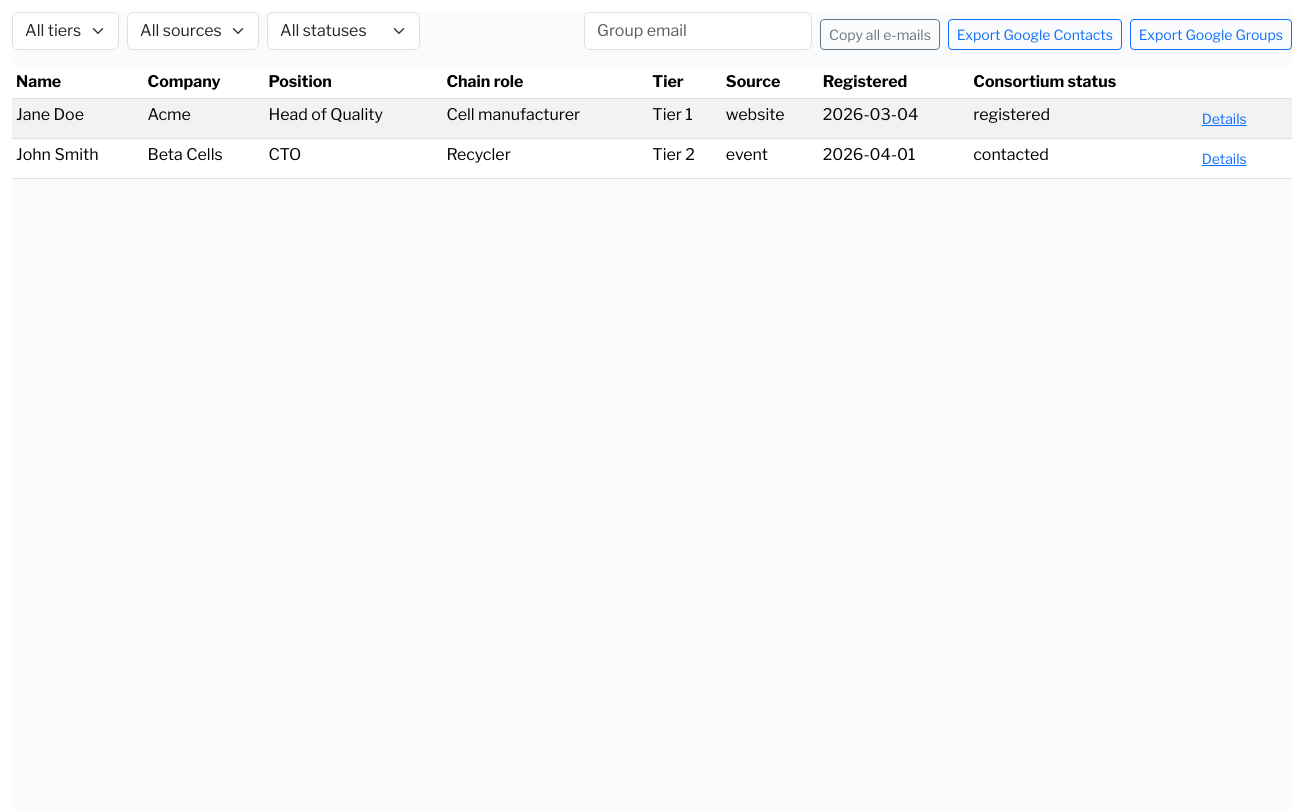
Test: ConsortiumRegistrations › saves an edited status and notes from the detail card
Click the button "Details" in the row of "Jane Doe". click: (1224, 118)
box: [1193,103,1256,134]
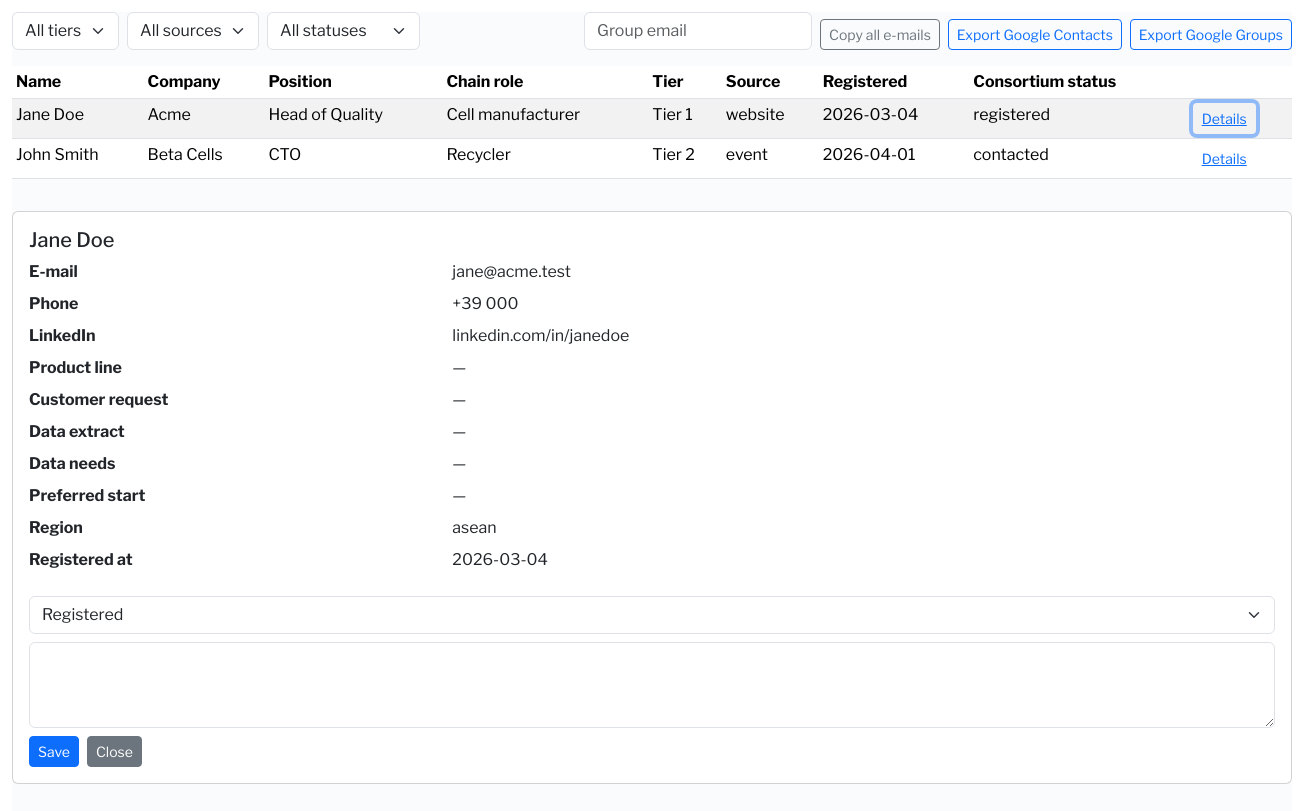
Select "Contacted" in the dropdown named "Consortium status". click: (652, 615)
box: [29,596,1275,634]
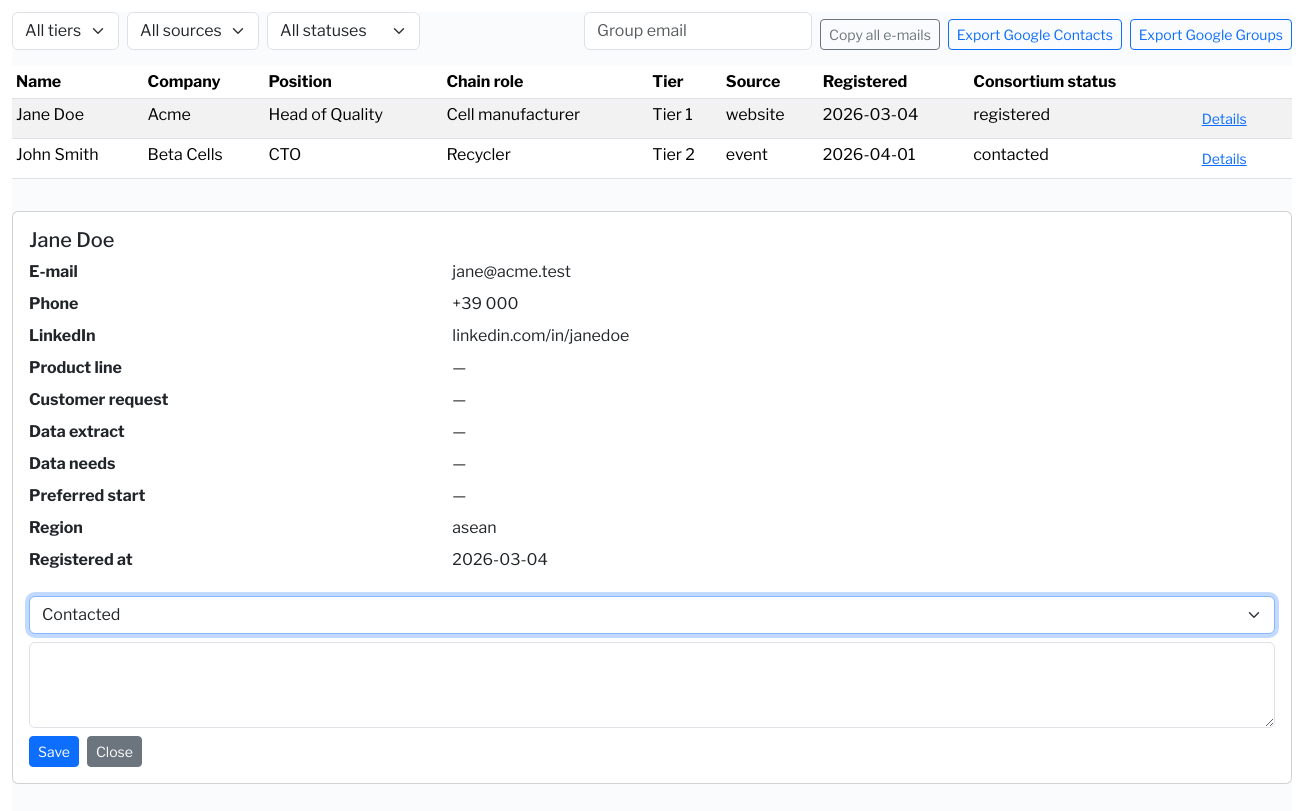
Type "Called them" into the text box named "Admin notes". click: (652, 685)
box: [29,642,1275,728]
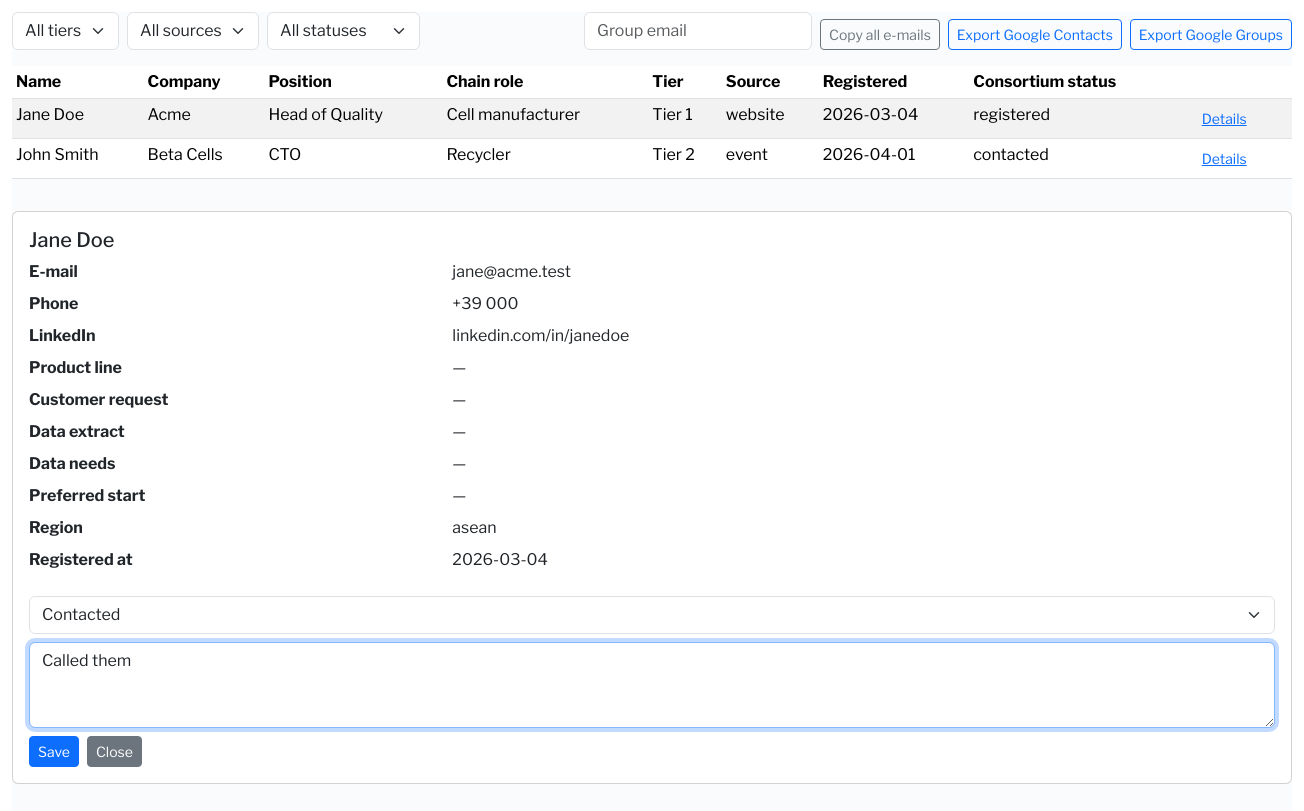
Click the button "Save". click: (54, 752)
box: [29,736,79,767]
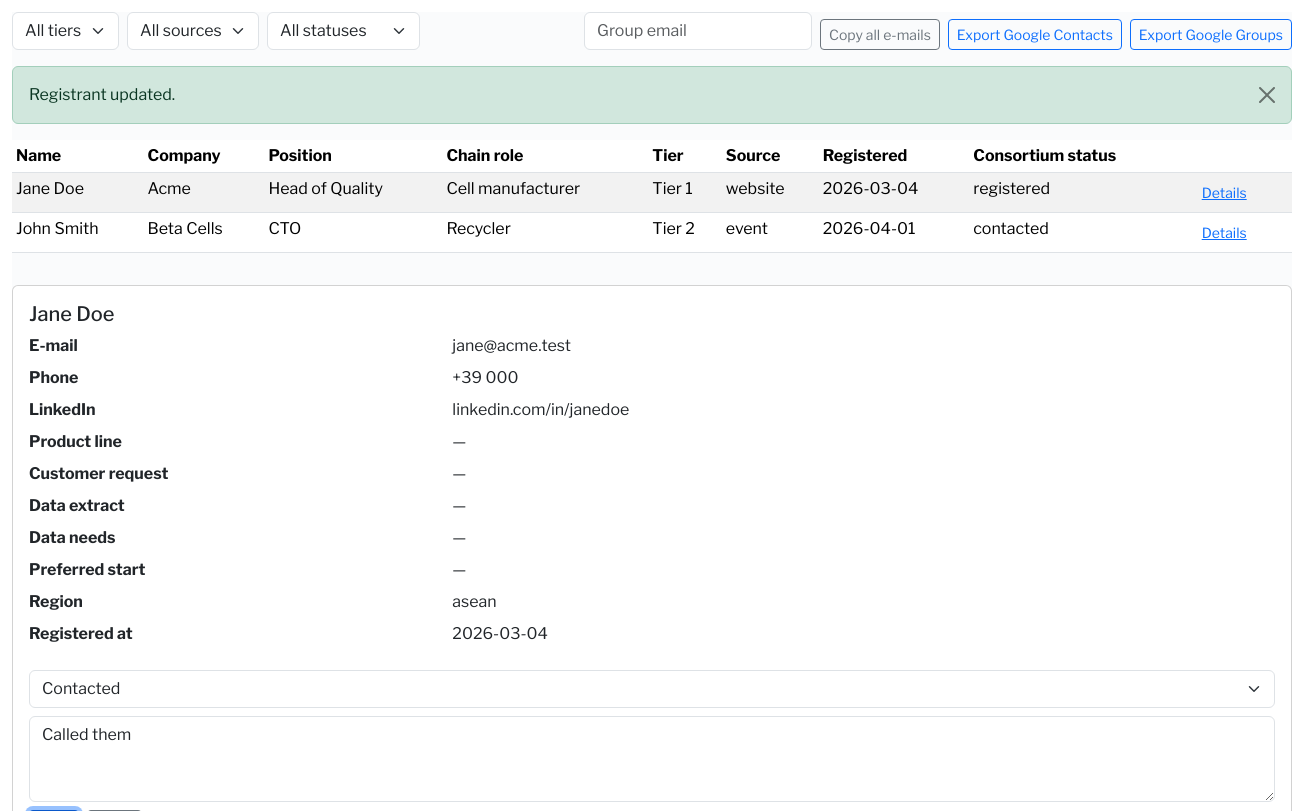
Result: the text "Registrant updated." is shown at [12,66,1292,124]
